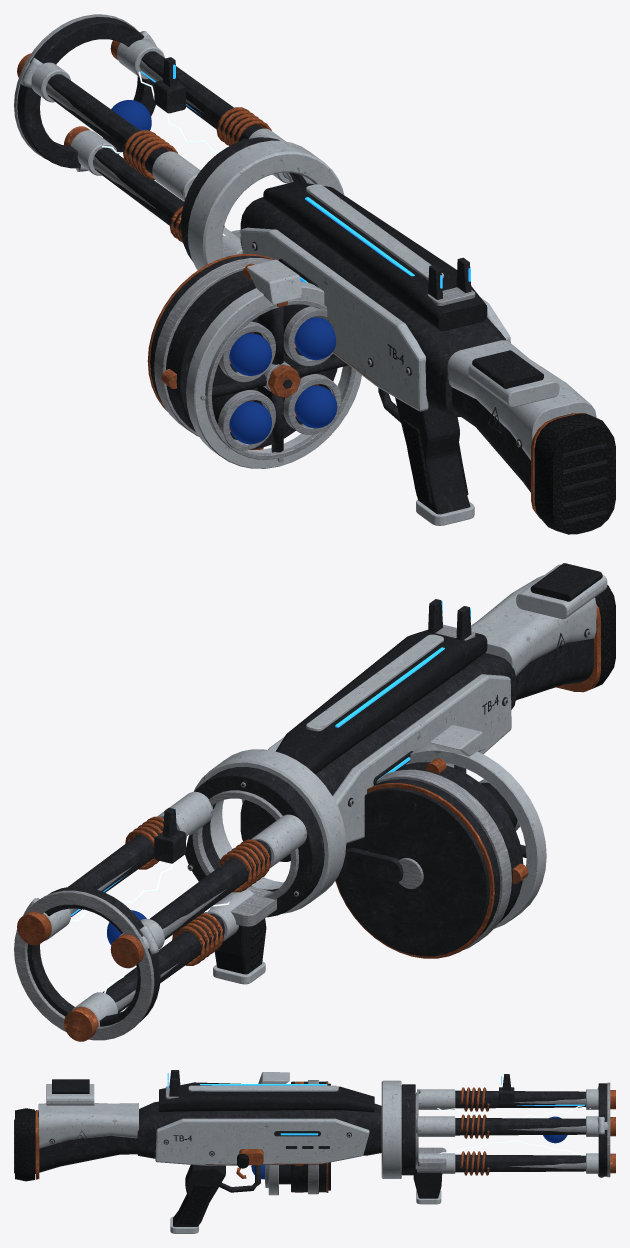
File: thunderbolt.glb
3 views of the same model, one above another, from view 1: azimuth 30°, elevation 25°; view 2: azimuth 150°, elevation 25°; view 3: azimuth 270°, elevation 25° (orthographic). The views are drawn at different scales.
Parts seen in each view (by area): view 1: body, rotor, optic, orb1, orb2, orb3, orb0, energy; view 2: body, rotor, optic; view 3: body, rotor, optic, bolt, arcs.
Part boxes in pixels (x1,y1,x2,y2): body: [14, 14, 615, 534]; rotor: [147, 254, 361, 468]; optic: [154, 57, 475, 305]; orb1: [294, 385, 337, 428]; orb2: [229, 401, 271, 444]; orb3: [229, 333, 271, 375]; orb0: [294, 317, 335, 360]; energy: [111, 100, 151, 130]; body: [14, 563, 615, 1041]; rotor: [335, 744, 546, 958]; optic: [154, 599, 475, 863]; body: [14, 1072, 615, 1233]; rotor: [265, 1080, 330, 1195]; optic: [165, 1070, 514, 1105]; bolt: [237, 1149, 263, 1168]; arcs: [437, 1106, 590, 1155].
Size of the model in its own units: 0.2899 by 0.2765 by 0.9908.
9 materials, 6 textured.
